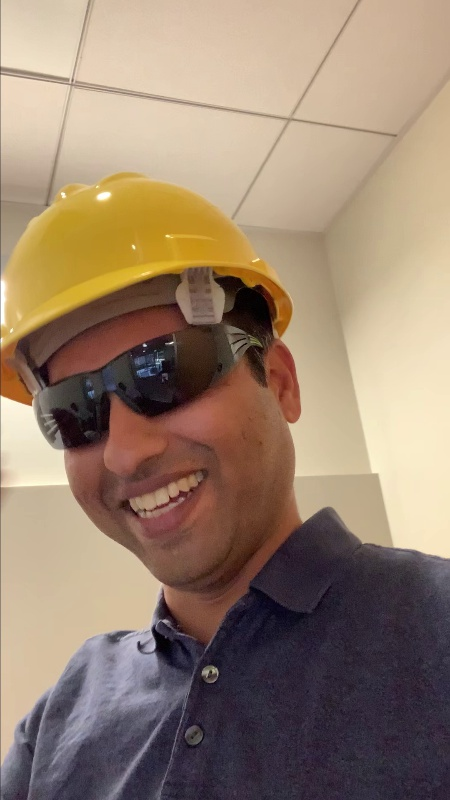glasses: (35, 350, 207, 431)
helmet: (2, 182, 288, 302)
